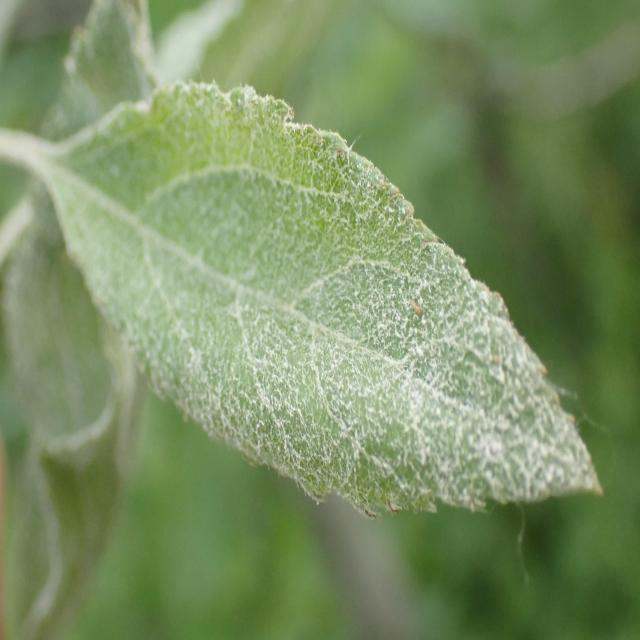Powdery_mildew: (57, 70, 607, 529)
